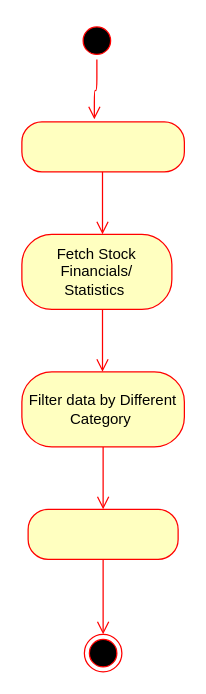
Some shapes in this 206 by 694 pixel diagram are drawn without their labels. The centre of each missing label's shape, as x and y in pixels:
"Add Company Symbols" goes at (x=102, y=146).
"Log Out" goes at (x=102, y=533).
